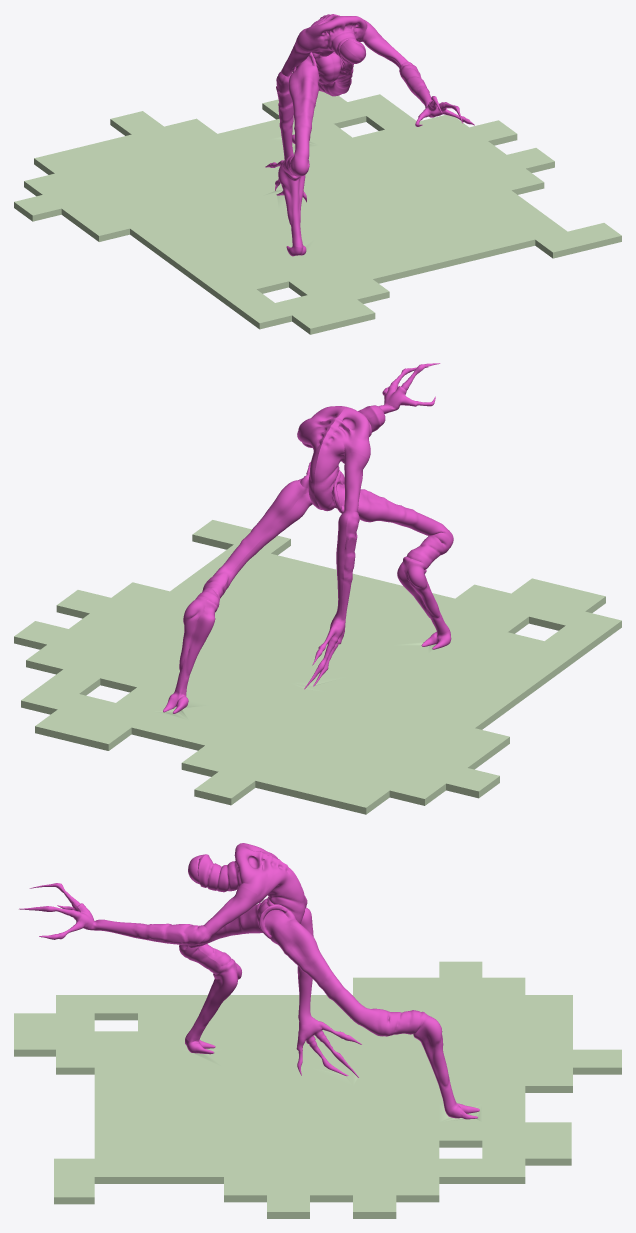
The picture shows the model from 3 angles, top to bottom: view 1: azimuth 30°, elevation 25°; view 2: azimuth 150°, elevation 25°; view 3: azimuth 270°, elevation 25°; orthographic projection. The views are drawn at different scales.
Parts seen in each view (by area): view 1: Object_2, split_parent_1; view 2: Object_2, split_parent_1; view 3: Object_2, split_parent_1.
Part boxes in pixels (x1,y1,x2,y2): Object_2: [14, 91, 621, 334]; split_parent_1: [265, 14, 474, 256]; Object_2: [14, 520, 621, 814]; split_parent_1: [163, 363, 453, 713]; Object_2: [14, 961, 621, 1218]; split_parent_1: [19, 843, 479, 1119].
Bounding box in the file's own units: 0.9741 × 0.4442 × 1.
